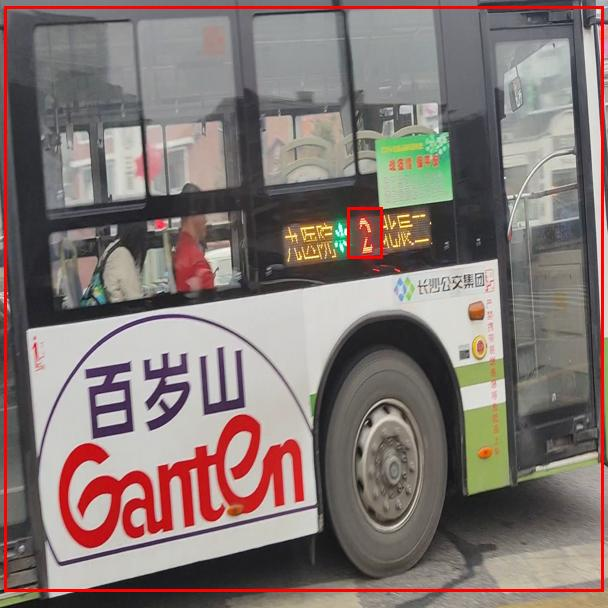bus: (4, 6, 603, 591)
screen: (347, 207, 382, 258)
